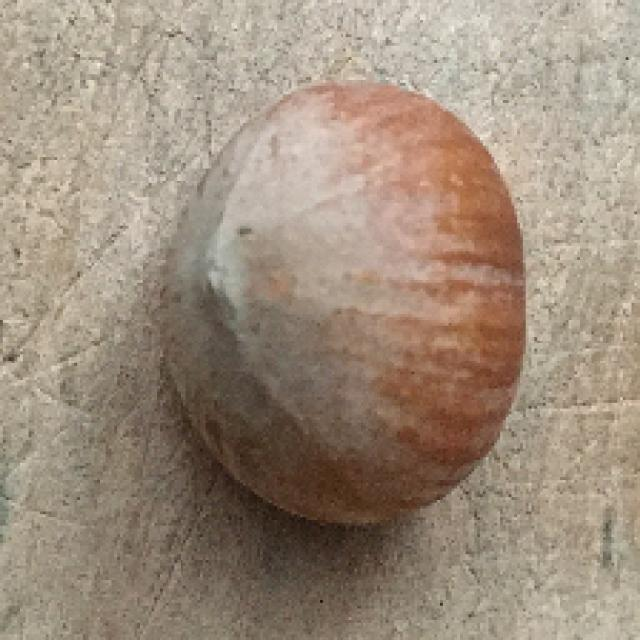qualityHazelnut: (160, 82, 527, 527)
